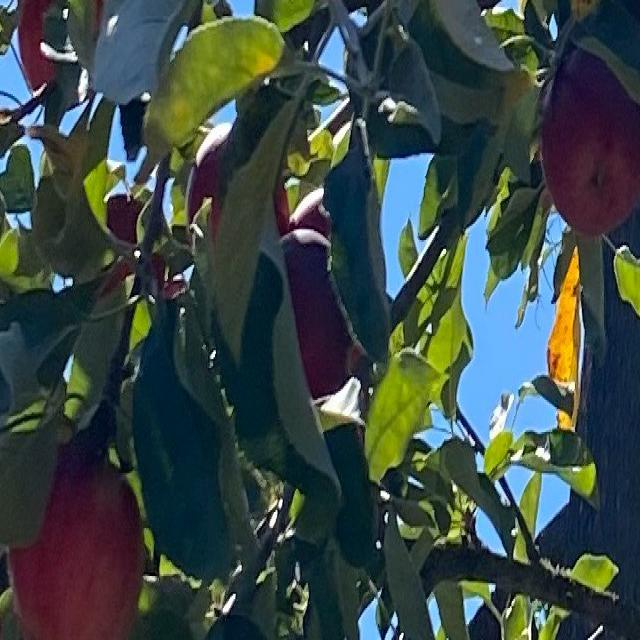Apples: (7, 441, 146, 638), (542, 41, 639, 235), (190, 122, 288, 276), (277, 231, 359, 398), (18, 0, 103, 89), (99, 196, 164, 302), (289, 187, 338, 233)
